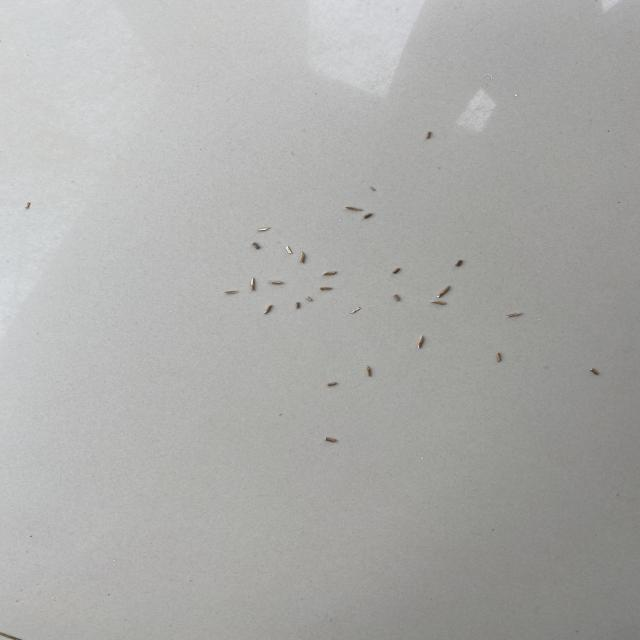Wereng: (421, 127, 438, 144), (340, 202, 366, 212), (417, 332, 429, 352), (345, 304, 363, 317), (429, 298, 452, 308), (436, 282, 450, 298), (262, 301, 276, 316), (359, 213, 382, 221), (368, 182, 380, 197), (298, 248, 308, 266), (21, 199, 35, 211), (255, 226, 273, 235), (503, 312, 526, 319), (588, 366, 601, 378), (392, 291, 404, 303), (248, 241, 262, 251), (324, 269, 338, 279), (223, 288, 238, 297), (366, 365, 375, 380), (295, 298, 303, 314), (326, 436, 342, 444), (285, 242, 294, 256), (252, 278, 259, 294), (456, 258, 466, 269), (495, 352, 504, 364), (325, 383, 342, 389), (272, 279, 284, 287), (318, 286, 334, 292), (395, 264, 403, 276), (306, 296, 315, 302)
